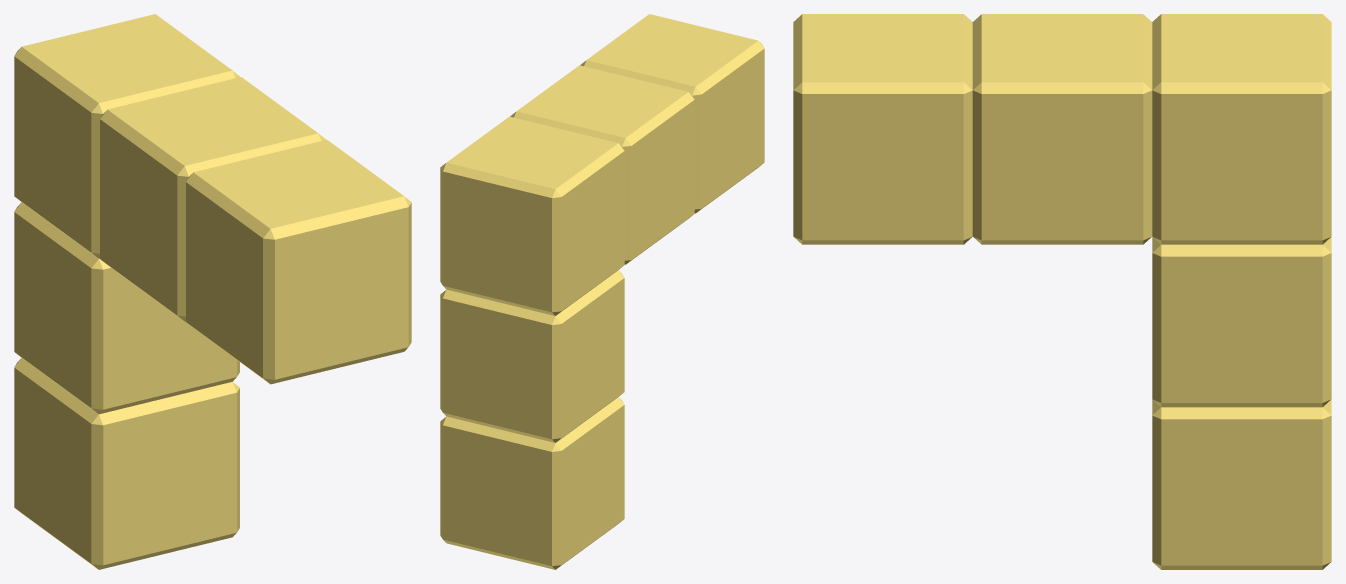
The picture shows the model from 3 angles, left to right: view 1: azimuth 30°, elevation 25°; view 2: azimuth 150°, elevation 25°; view 3: azimuth 270°, elevation 25°; orthographic projection. The views are drawn at different scales.
Parts seen in each view (by area): view 1: geo1; view 2: geo1; view 3: geo1.
Boxes of the visible parts, left/top/right/bottom form: geo1: left=14, top=14, right=411, bottom=569; geo1: left=440, top=14, right=764, bottom=569; geo1: left=793, top=14, right=1331, bottom=569.
Size of the model in its own units: 1 by 3 by 3.
